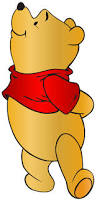Winnie: (3, 3, 90, 104)
